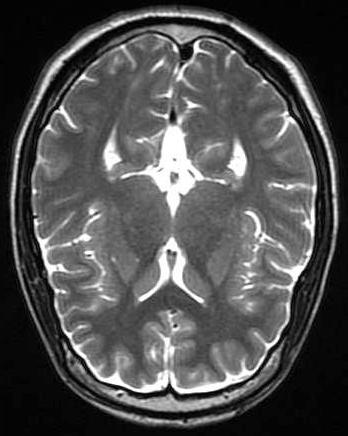Normal_Brain: (1, 1, 348, 436)
